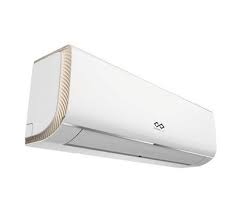ac: (19, 42, 219, 176)
